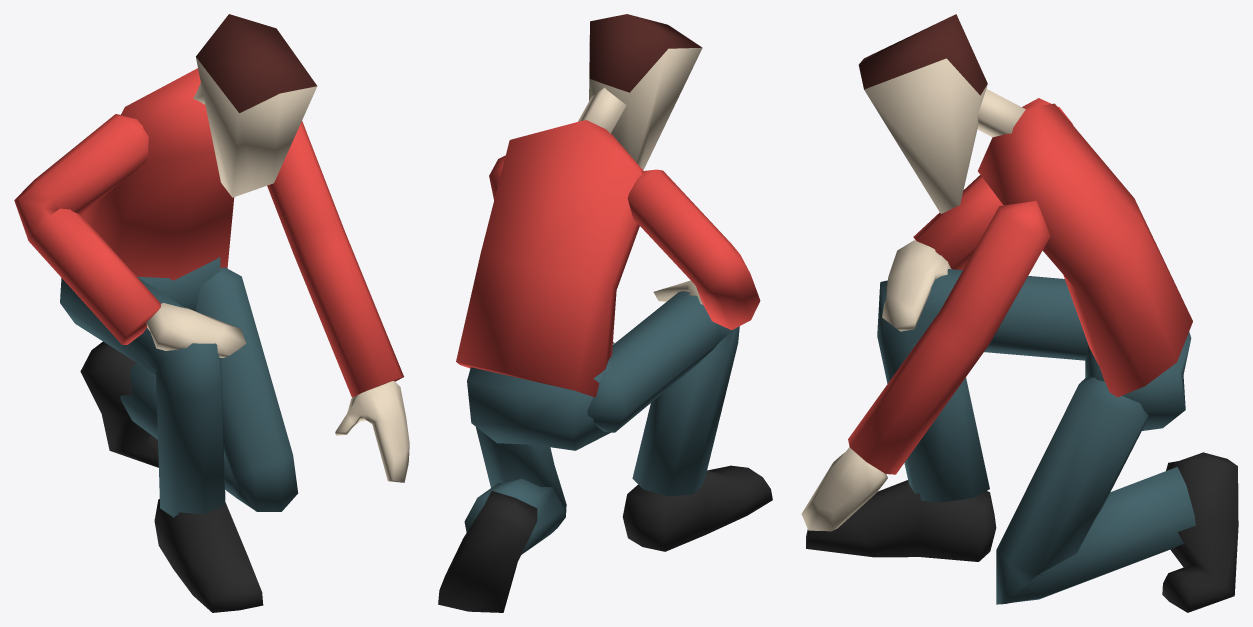
File: mesh_HistorianB.fbx
The picture shows the model from 3 angles, left to right: view 1: azimuth 30°, elevation 25°; view 2: azimuth 150°, elevation 25°; view 3: azimuth 270°, elevation 25°; orthographic projection. The views are drawn at different scales.
Parts seen in each view (by area): view 1: HistorianB; view 2: HistorianB; view 3: HistorianB.
Boxes of the visible parts, box(x1,y1,x2,y2) form: HistorianB: box(14, 14, 409, 612); HistorianB: box(438, 14, 772, 612); HistorianB: box(801, 14, 1238, 612).
Bounding box in the file's own units: 36.12 × 62.91 × 44.33.
